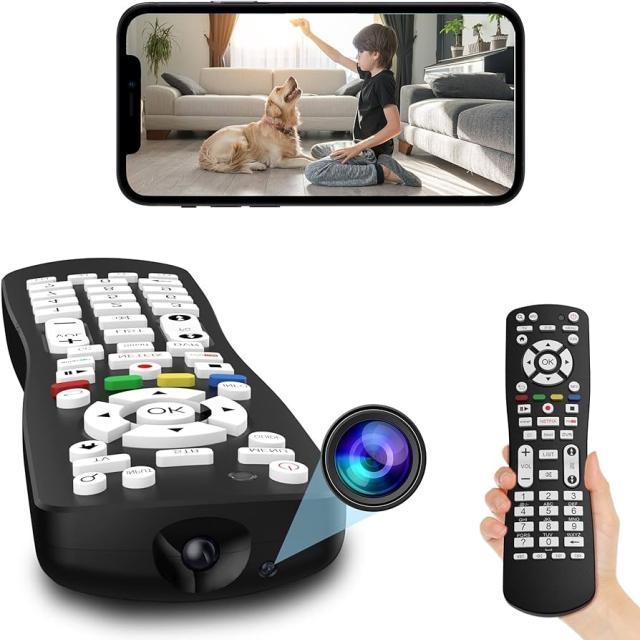hidden camera: (331, 420, 415, 498), (259, 560, 276, 581)
